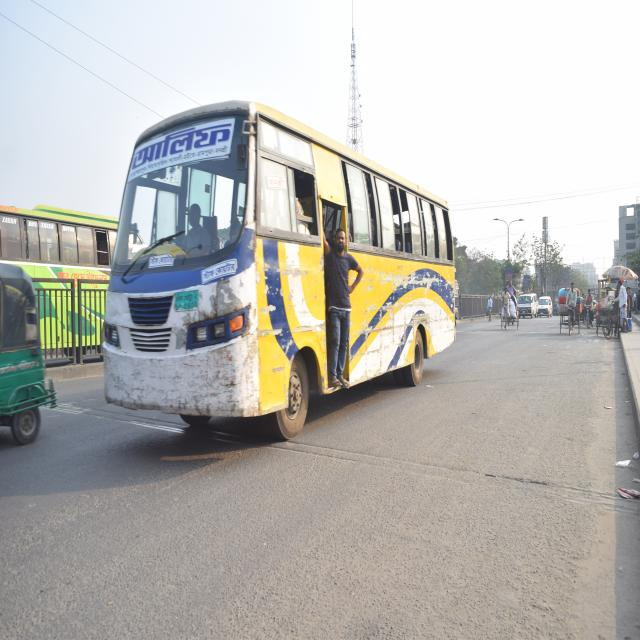bus: (100, 91, 461, 488)
car: (539, 292, 555, 322)
microbus: (516, 290, 540, 319)
